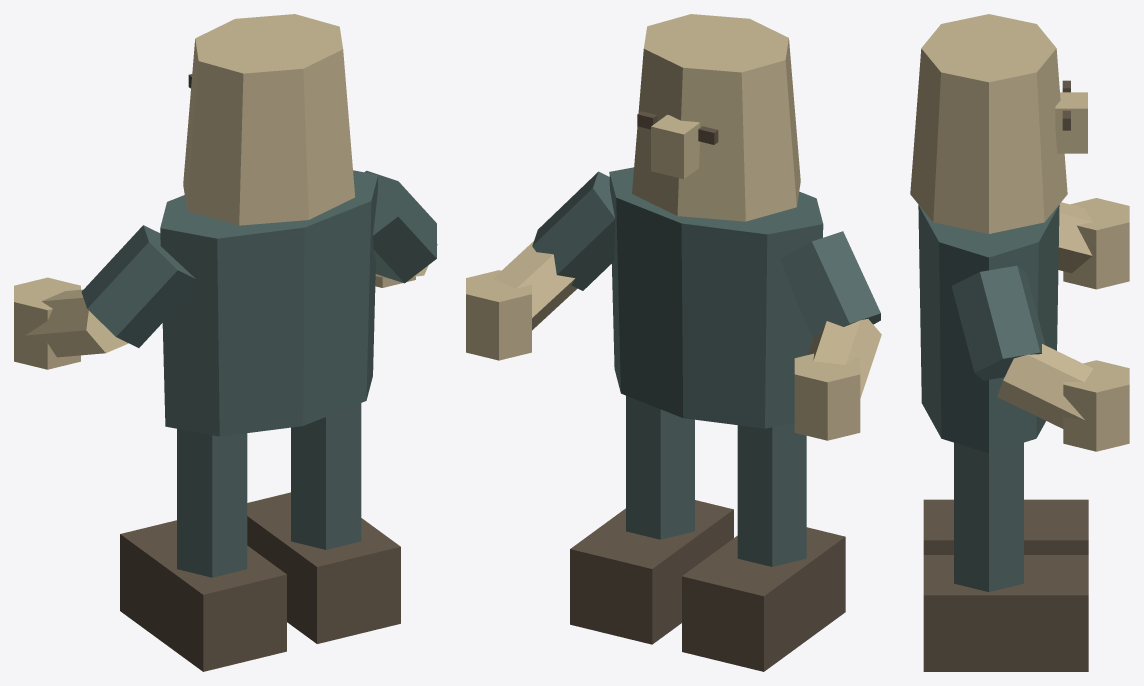
The model's file is Pawn_Human.fbx.
3 renders of one model, left to right at view 1: azimuth 30°, elevation 25°; view 2: azimuth 150°, elevation 25°; view 3: azimuth 270°, elevation 25°, orthographic.
Visible parts, largest first — view 1: Pawn_Human; view 2: Pawn_Human; view 3: Pawn_Human.
Part boxes in pixels (x1=…): Pawn_Human: x1=14, y1=14, x2=437, y2=671; Pawn_Human: x1=466, y1=14, x2=881, y2=671; Pawn_Human: x1=910, y1=14, x2=1129, y2=671.
Size of the model in its own units: 1.2 by 1.65 by 0.5716.
